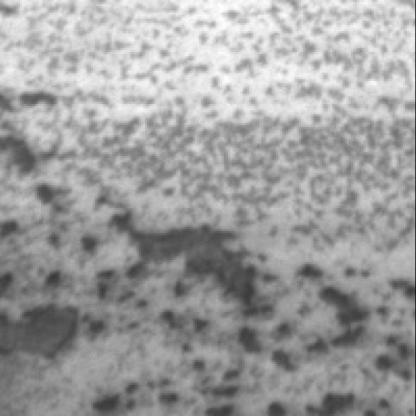patches: (121, 204, 264, 302), (4, 293, 81, 356)
pitted_surface: (40, 0, 416, 222), (83, 216, 416, 414)
